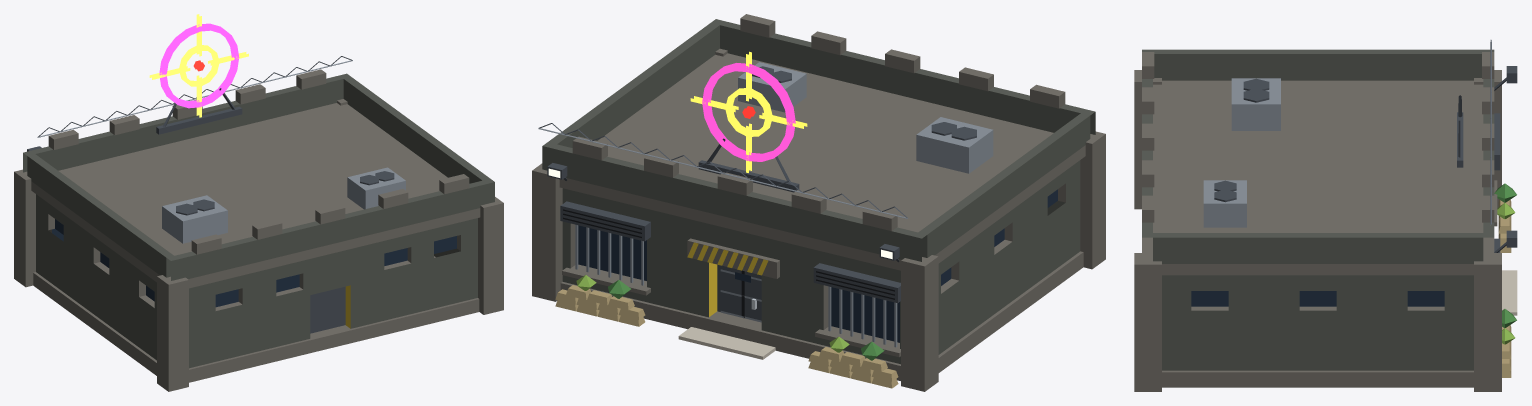
Rendered from weapon_shop.glb.
The picture shows the model from 3 angles, left to right: view 1: azimuth 30°, elevation 25°; view 2: azimuth 150°, elevation 25°; view 3: azimuth 270°, elevation 25°; orthographic projection. The views are drawn at different scales.
Parts seen in each view (by area): view 1: Body; view 2: Body; view 3: Body.
Part boxes in pixels (bbox=[...]): Body: bbox=[14, 14, 503, 391]; Body: bbox=[532, 14, 1105, 391]; Body: bbox=[1134, 40, 1517, 391].
Size of what is drawn, in the model's own units: 14.9 by 10 by 12.41.
